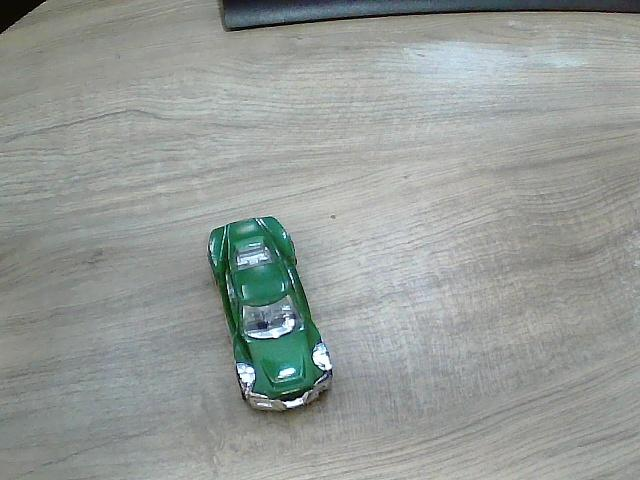Carro: (208, 217, 333, 414)
